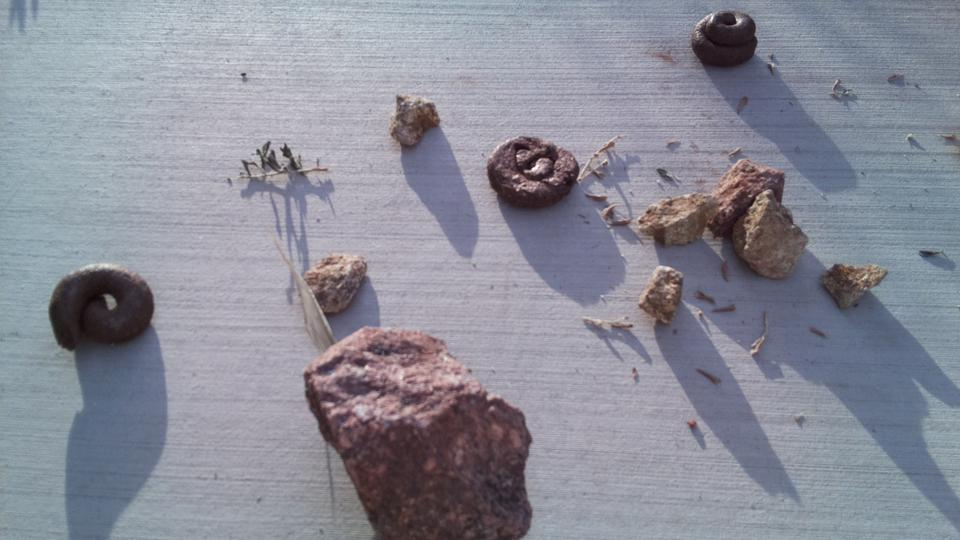poop: (46, 259, 159, 354), (483, 131, 579, 213), (689, 8, 763, 72)
